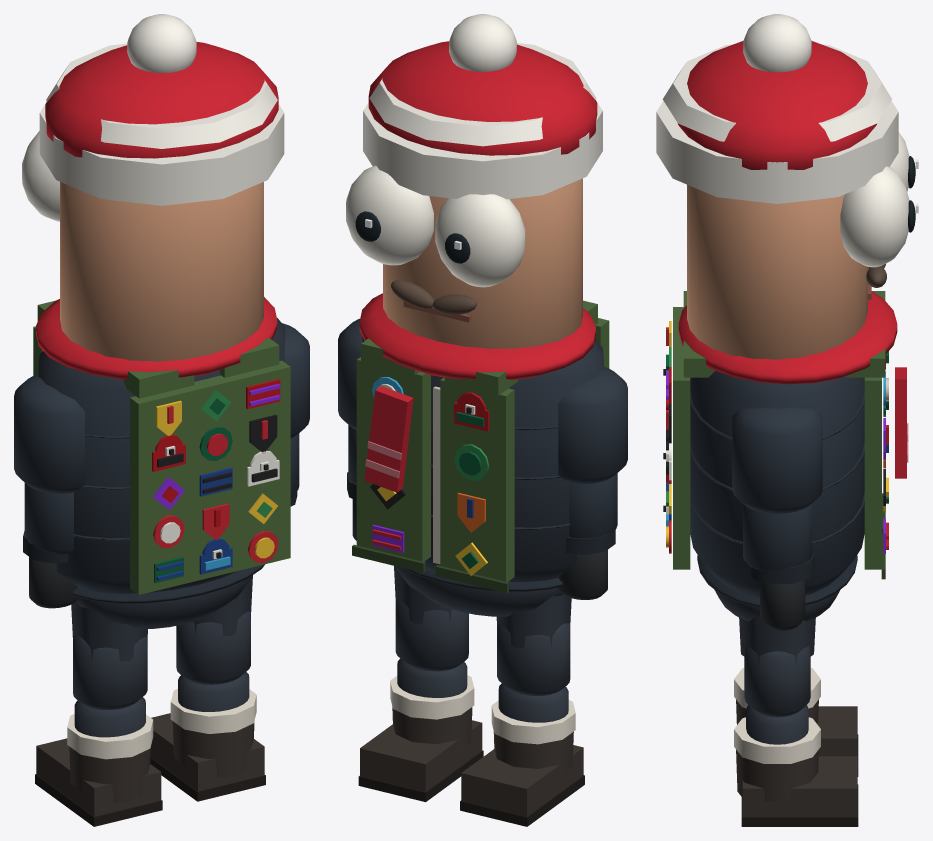
Rendered from spectator_winter_11.glb.
3 views of the same model, side by side, from view 1: azimuth 30°, elevation 25°; view 2: azimuth 150°, elevation 25°; view 3: azimuth 270°, elevation 25° (orthographic). The views are drawn at different scales.
Parts seen in each view (by area): view 1: Head, RallySpectator, LeftShin, RightShin, LeftArm, LeftLeg, RightLeg, LeftForearm, RightArm, RightForearm; view 2: Head, RallySpectator, LeftShin, RightShin, LeftArm, LeftLeg, LeftForearm, RightLeg, RightArm, RightForearm; view 3: Head, RallySpectator, RightShin, RightArm, RightForearm, RightLeg, LeftShin.
Boxes of the visible parts, x1,y1,x2,y2 form: Head: (22, 14, 284, 361); RallySpectator: (33, 297, 290, 629); LeftShin: (35, 697, 162, 826); RightShin: (150, 672, 265, 801); LeftArm: (14, 374, 84, 493); LeftLeg: (71, 601, 147, 709); RightLeg: (176, 575, 252, 684); LeftForearm: (23, 483, 78, 608); RightArm: (282, 323, 309, 438); RightForearm: (290, 433, 299, 506); Head: (346, 14, 602, 348); RallySpectator: (352, 293, 609, 616); LeftShin: (460, 683, 584, 826); RightShin: (358, 658, 483, 802); LeftArm: (558, 367, 627, 483); LeftLeg: (496, 594, 571, 695); LeftForearm: (557, 473, 617, 599); RightLeg: (394, 566, 468, 671); RightArm: (338, 318, 362, 429); RightForearm: (347, 425, 356, 540); Head: (656, 14, 918, 359); RallySpectator: (663, 291, 908, 621); RightShin: (734, 705, 858, 826); RightArm: (732, 408, 822, 513); RightForearm: (743, 503, 814, 630); RightLeg: (739, 615, 815, 717); LeftShin: (734, 668, 858, 776).
Bounding box in the file's own units: 0.93 × 2.43 × 0.7535.
